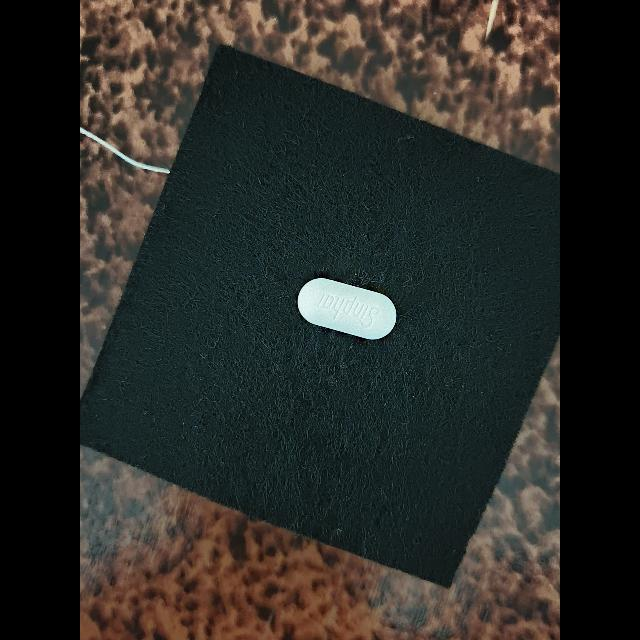Intact Pill: (297, 278, 397, 340)
